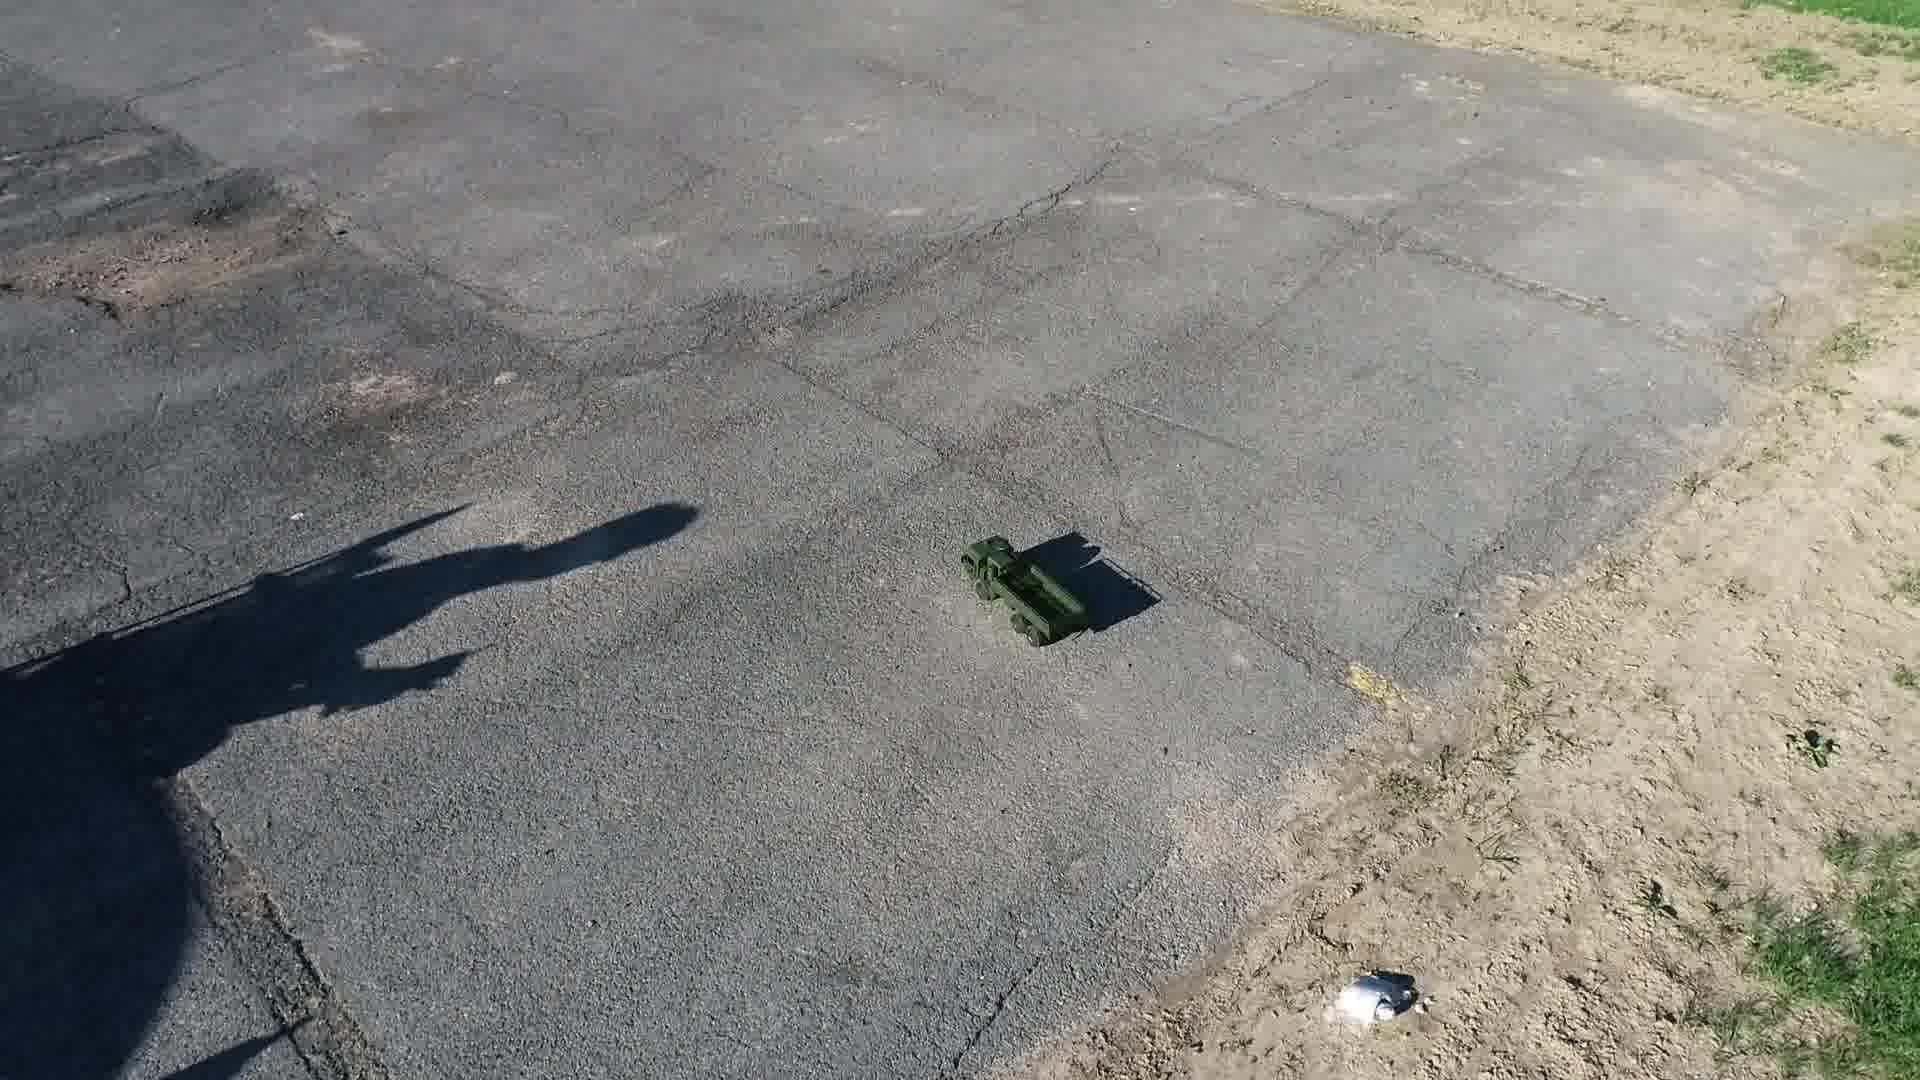transporter9: (952, 527, 1101, 655)
